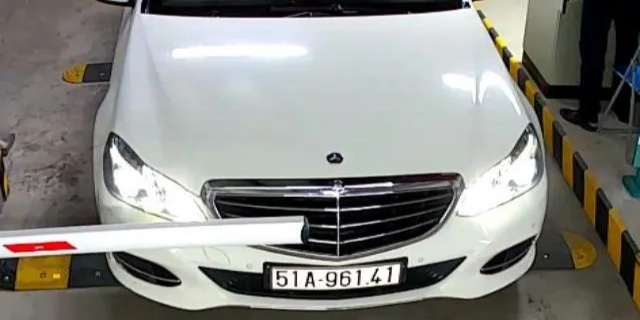bien_so: (271, 262, 402, 287)
